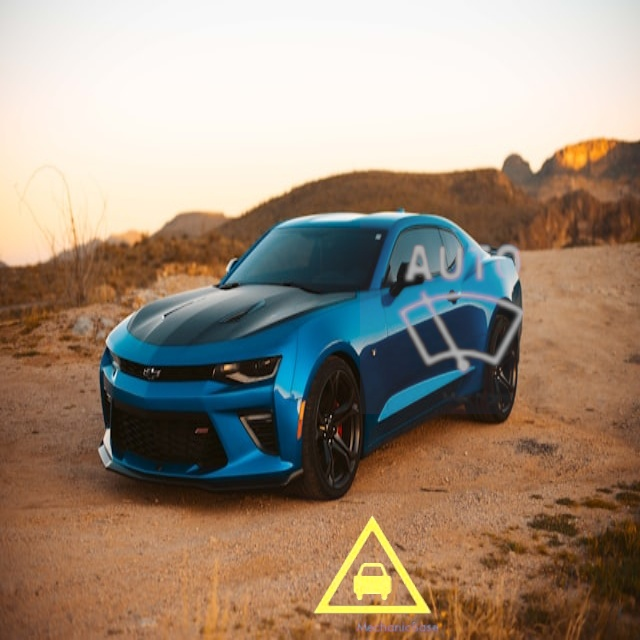symbol: (360, 207, 567, 414), (300, 495, 444, 639)
